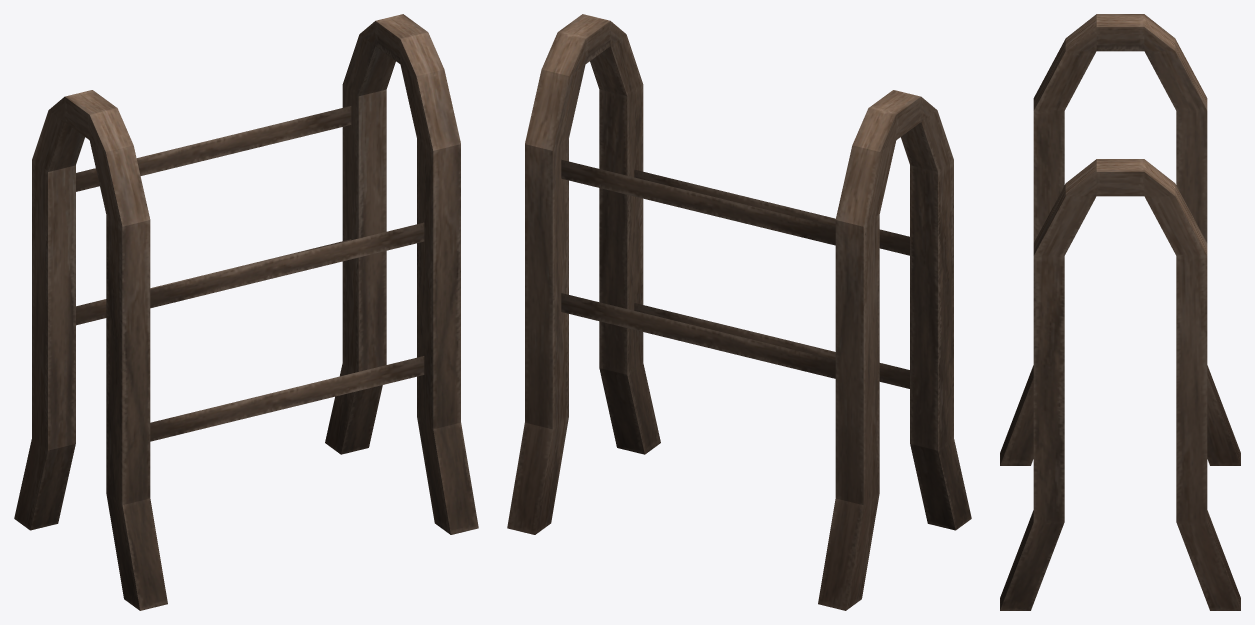
The model's file is Clothing.Rack.fbx.
3 views of the same model, side by side, from view 1: azimuth 30°, elevation 25°; view 2: azimuth 150°, elevation 25°; view 3: azimuth 270°, elevation 25° (orthographic). The views are drawn at different scales.
Parts seen in each view (by area): view 1: Clothing.Rack; view 2: Clothing.Rack; view 3: Clothing.Rack.
Part boxes in pixels (x1,y1,x2,y2): Clothing.Rack: (14, 14, 478, 610); Clothing.Rack: (507, 14, 971, 610); Clothing.Rack: (1000, 14, 1240, 610).
Size of the model in its own units: 63.27 by 81.96 by 40.77.
